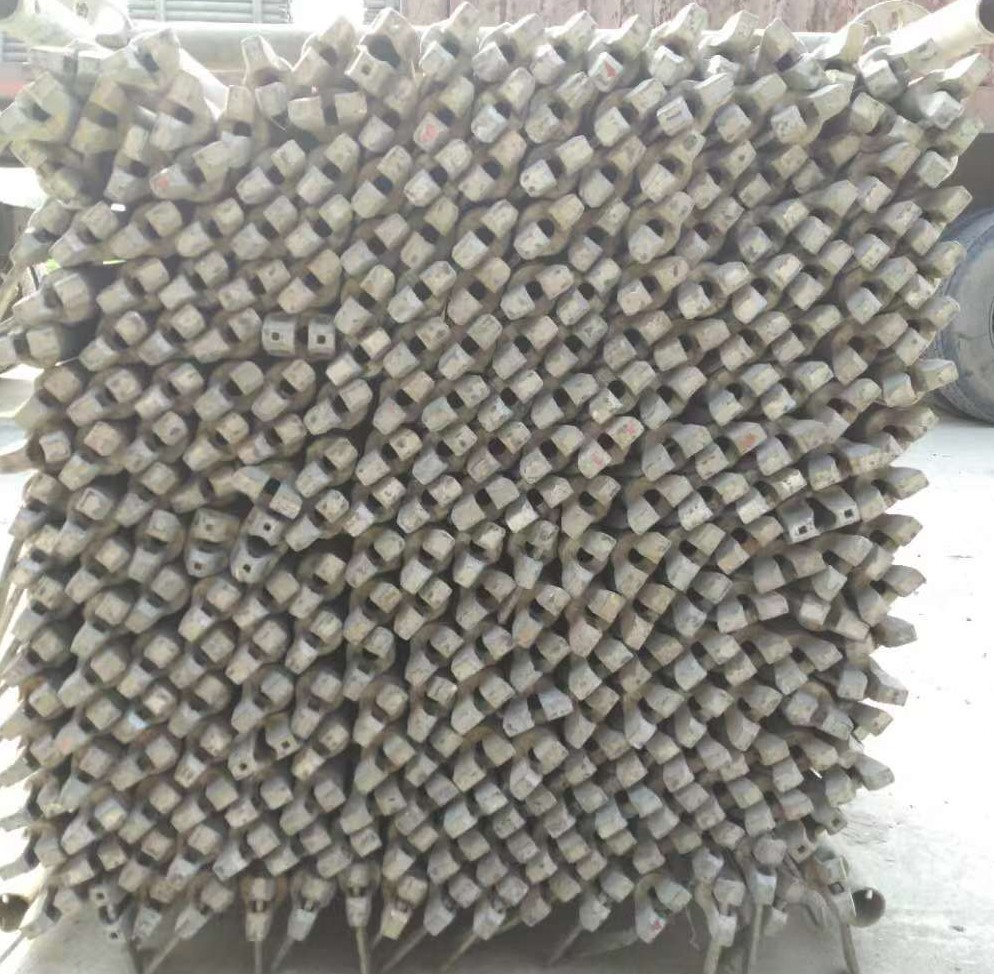NHsquare_steel: (856, 34, 945, 99), (711, 74, 789, 145), (470, 67, 539, 147), (833, 313, 908, 386), (647, 1, 712, 85), (473, 12, 547, 85), (518, 73, 594, 144), (919, 52, 991, 126), (916, 113, 986, 189), (591, 79, 668, 148), (766, 86, 849, 149), (528, 10, 599, 83), (147, 141, 231, 202), (420, 1, 484, 81), (688, 139, 759, 211), (585, 17, 653, 92), (450, 201, 520, 273), (234, 139, 308, 207), (615, 256, 696, 318), (734, 200, 810, 266), (156, 248, 232, 313), (350, 146, 414, 223), (704, 364, 781, 428), (851, 203, 921, 273), (578, 137, 647, 208), (356, 80, 424, 152), (564, 202, 632, 274), (11, 370, 83, 438), (893, 295, 961, 366), (1, 70, 65, 145), (68, 75, 128, 155), (907, 187, 975, 257), (673, 200, 744, 267), (731, 256, 802, 323), (12, 269, 91, 329), (9, 139, 83, 203), (95, 258, 172, 319), (459, 136, 529, 203), (848, 257, 918, 324), (901, 241, 971, 308), (587, 359, 657, 426), (248, 358, 319, 424), (765, 15, 825, 93), (331, 266, 396, 338), (655, 77, 735, 135), (283, 194, 351, 262), (405, 141, 472, 210), (342, 213, 412, 279), (856, 141, 919, 214), (146, 74, 204, 153), (239, 32, 291, 120), (640, 130, 707, 198), (296, 133, 362, 202), (627, 194, 693, 263), (812, 536, 877, 606), (193, 361, 265, 424), (295, 15, 356, 89), (437, 317, 504, 384), (518, 135, 594, 194), (637, 367, 707, 431), (398, 199, 461, 270), (56, 647, 127, 710), (415, 79, 477, 151), (65, 371, 143, 428), (447, 258, 513, 325), (816, 377, 881, 445), (514, 197, 584, 260), (48, 206, 118, 269), (797, 181, 858, 253), (54, 488, 113, 562), (789, 241, 853, 309), (283, 489, 351, 553), (676, 261, 751, 319), (719, 313, 791, 373), (110, 204, 183, 263), (116, 634, 181, 700), (872, 402, 939, 466), (511, 581, 573, 650), (421, 374, 491, 435), (77, 312, 148, 372), (122, 411, 188, 475), (69, 591, 131, 659), (516, 427, 585, 488), (738, 146, 808, 206), (381, 318, 451, 378), (603, 311, 674, 370), (108, 27, 181, 84), (755, 419, 828, 476), (543, 316, 608, 380), (224, 620, 289, 684), (479, 370, 545, 433), (63, 541, 130, 603), (61, 423, 122, 491), (167, 631, 236, 691), (763, 361, 833, 420), (304, 378, 375, 436), (179, 581, 243, 645), (124, 568, 187, 633), (166, 677, 231, 740), (613, 533, 672, 602), (174, 204, 244, 262), (771, 306, 841, 364), (847, 91, 922, 145), (527, 373, 598, 430), (680, 472, 751, 529), (279, 251, 343, 314), (493, 318, 557, 381), (449, 476, 521, 532), (465, 424, 530, 486), (627, 473, 692, 535), (499, 266, 575, 319), (577, 418, 643, 479), (666, 525, 727, 591), (560, 259, 620, 326), (734, 471, 807, 526), (231, 199, 299, 258), (565, 591, 624, 659), (673, 572, 732, 640), (451, 523, 509, 592), (10, 575, 68, 644), (134, 363, 204, 420), (230, 574, 300, 631), (709, 4, 762, 79), (338, 583, 401, 646), (371, 373, 435, 435), (230, 671, 294, 733), (114, 464, 179, 525), (163, 823, 222, 890), (290, 554, 348, 622), (788, 137, 861, 191), (714, 516, 783, 573), (593, 784, 662, 841), (504, 476, 574, 532), (540, 784, 611, 839), (449, 675, 513, 736), (412, 426, 477, 486), (453, 571, 518, 631), (1, 681, 60, 747), (640, 426, 712, 480), (341, 628, 395, 700), (395, 476, 462, 534), (62, 798, 129, 856), (671, 635, 740, 691), (392, 579, 454, 641), (559, 476, 622, 537), (350, 686, 411, 749), (507, 739, 568, 802), (1, 631, 65, 691), (677, 688, 737, 752), (294, 438, 359, 497), (863, 515, 922, 580), (633, 880, 692, 945), (324, 330, 395, 384), (191, 307, 262, 361), (697, 423, 768, 477), (223, 777, 294, 831), (217, 262, 292, 313), (389, 263, 456, 320), (183, 415, 250, 472), (727, 685, 782, 754), (423, 874, 484, 936), (860, 564, 920, 627), (770, 738, 840, 792), (284, 611, 343, 675), (128, 510, 179, 584), (341, 479, 406, 537), (645, 783, 710, 841), (473, 874, 529, 941), (653, 322, 731, 370), (140, 309, 203, 368), (9, 473, 62, 543), (661, 741, 731, 794), (356, 431, 421, 488), (174, 725, 231, 790), (399, 530, 455, 596), (859, 468, 930, 520), (169, 782, 240, 834), (561, 531, 616, 598), (515, 873, 583, 927), (105, 126, 152, 204), (293, 723, 352, 785), (625, 687, 683, 750), (337, 784, 407, 836), (7, 205, 61, 272), (562, 733, 629, 787), (60, 745, 114, 812), (215, 826, 282, 880), (773, 641, 841, 694), (175, 882, 233, 944), (58, 697, 122, 753), (568, 646, 633, 701), (284, 89, 367, 132), (618, 583, 672, 649), (289, 673, 342, 740), (278, 781, 345, 834), (344, 532, 405, 590), (693, 779, 762, 830), (237, 468, 302, 522), (577, 871, 635, 931), (510, 636, 572, 692), (724, 635, 792, 686), (564, 686, 618, 750), (111, 738, 180, 788), (118, 830, 171, 895), (219, 87, 262, 167), (452, 740, 518, 792), (135, 877, 182, 950), (119, 785, 180, 841), (351, 740, 413, 795), (19, 888, 81, 943), (503, 690, 574, 738), (814, 854, 861, 926), (449, 630, 514, 682), (834, 665, 909, 710), (403, 630, 463, 686), (394, 776, 455, 831), (512, 522, 561, 590), (522, 835, 590, 884), (807, 445, 881, 490), (619, 638, 683, 690), (407, 677, 459, 741), (823, 20, 871, 89), (741, 790, 813, 836), (239, 414, 305, 464), (613, 739, 679, 789), (441, 787, 507, 837), (632, 829, 703, 875), (826, 758, 894, 805), (719, 737, 790, 782), (381, 825, 438, 881), (474, 835, 539, 884), (317, 830, 382, 879), (752, 549, 826, 592), (492, 788, 556, 837), (406, 731, 461, 788), (787, 696, 855, 742), (116, 688, 176, 740), (576, 829, 638, 879), (797, 599, 869, 642), (843, 618, 918, 659), (1, 836, 66, 883), (1, 433, 72, 476), (695, 822, 743, 885), (379, 877, 427, 940), (3, 736, 61, 788), (431, 834, 491, 884), (289, 875, 332, 944), (10, 528, 61, 586), (1, 326, 68, 370), (744, 838, 786, 908), (714, 592, 789, 631), (173, 471, 240, 514), (1, 791, 65, 836), (24, 49, 114, 80), (707, 875, 745, 948), (267, 827, 331, 869), (340, 861, 377, 932), (60, 845, 127, 884), (242, 878, 277, 946)
THsquare_steel: (347, 7, 417, 96), (229, 727, 301, 782), (229, 516, 284, 582), (181, 509, 233, 578), (785, 808, 850, 862), (784, 498, 858, 544), (87, 883, 134, 951), (259, 319, 337, 359)
circle_steel: (854, 882, 887, 934)
